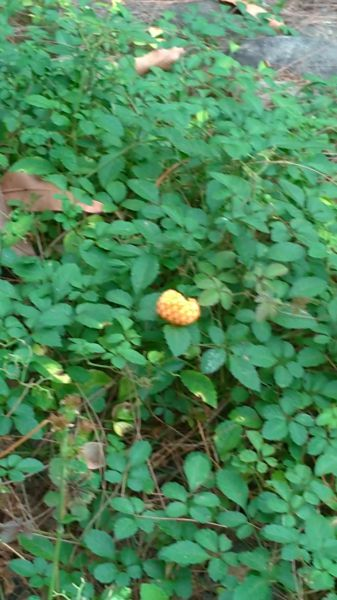eggs: (152, 287, 205, 328)
